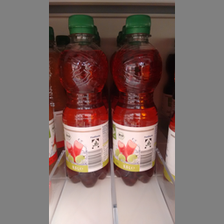soda: (56, 15, 110, 188), (111, 14, 162, 187)
